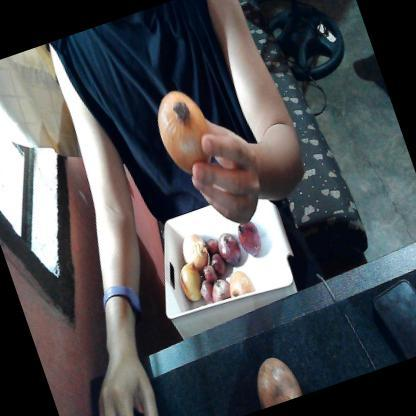onion: (143, 77, 229, 200), (171, 257, 216, 310), (214, 226, 246, 269)
